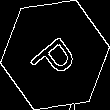P_NE: (26, 25, 84, 85)
